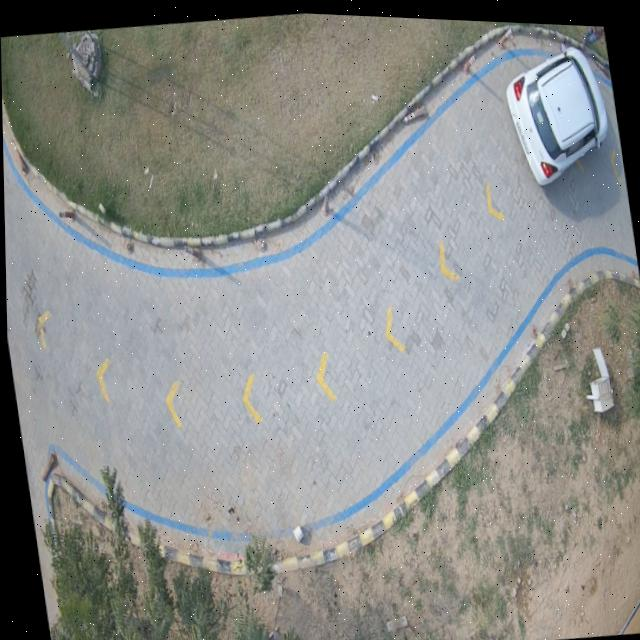car: (506, 40, 606, 180)
